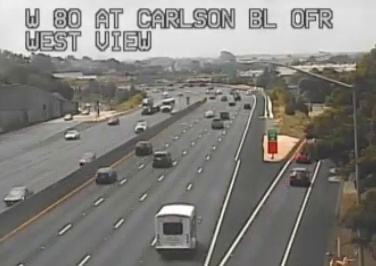bus: (155, 204, 197, 251)
car: (289, 168, 309, 186), (95, 167, 115, 184), (152, 151, 172, 166), (135, 141, 152, 155)
